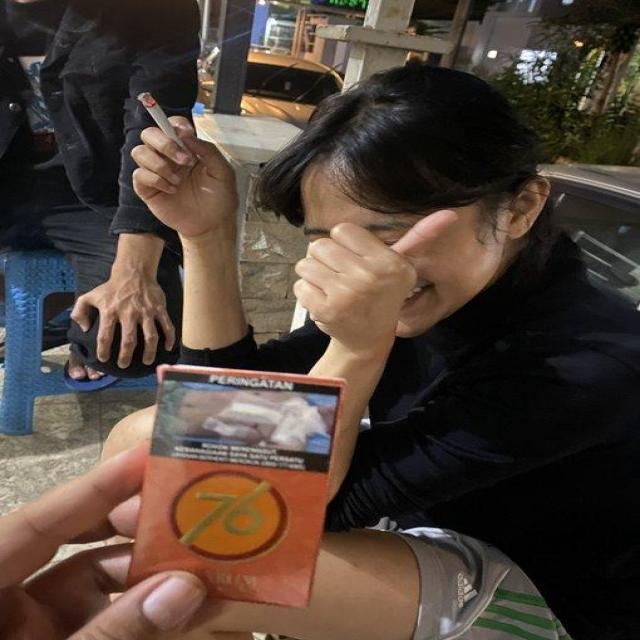rokok: (132, 88, 190, 146)
